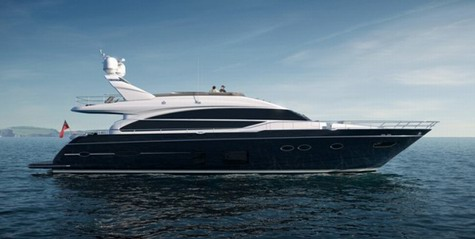yacht: (25, 53, 435, 177)
